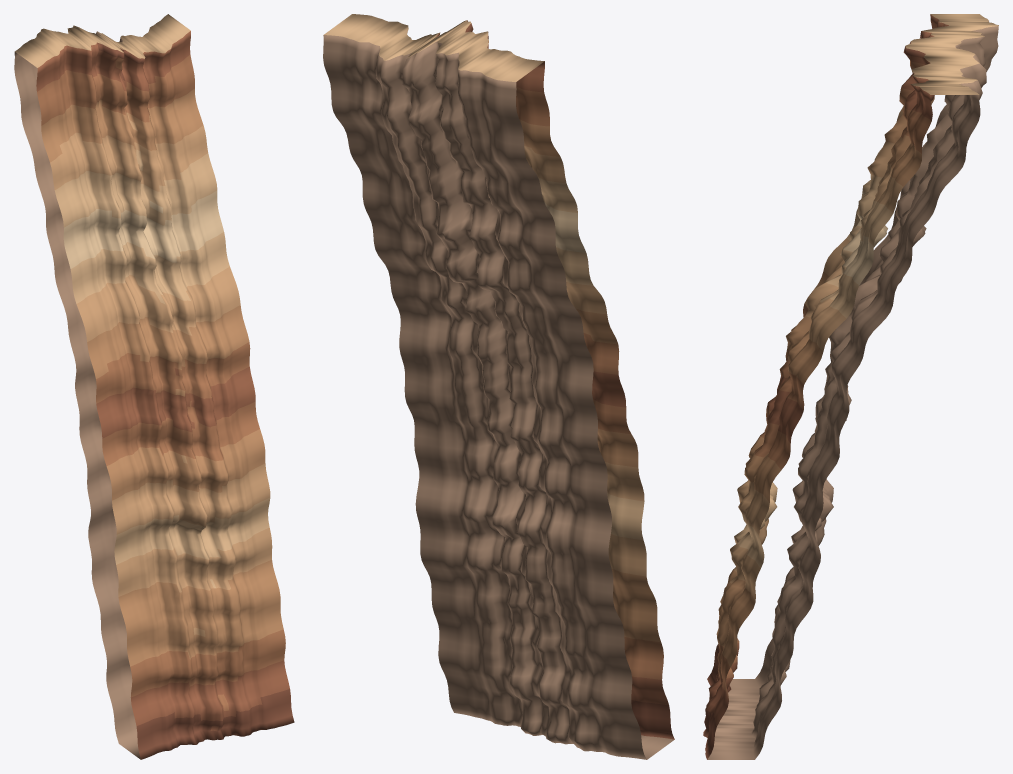
Rendered from SM_CanyonWall_L_Straight_A.glb.
3 views of the same model, side by side, from view 1: azimuth 30°, elevation 25°; view 2: azimuth 150°, elevation 25°; view 3: azimuth 270°, elevation 25° (orthographic). The views are drawn at different scales.
Visible parts, largest first — view 1: SM_CanyonWall_L_Straight_A; view 2: SM_CanyonWall_L_Straight_A; view 3: SM_CanyonWall_L_Straight_A.
Part boxes in pixels (left/top/right/bottom): SM_CanyonWall_L_Straight_A: left=14, top=14, right=294, bottom=759; SM_CanyonWall_L_Straight_A: left=323, top=14, right=674, bottom=759; SM_CanyonWall_L_Straight_A: left=703, top=14, right=998, bottom=759.
Bounding box in the file's own units: 24 × 93.38 × 37.08.
